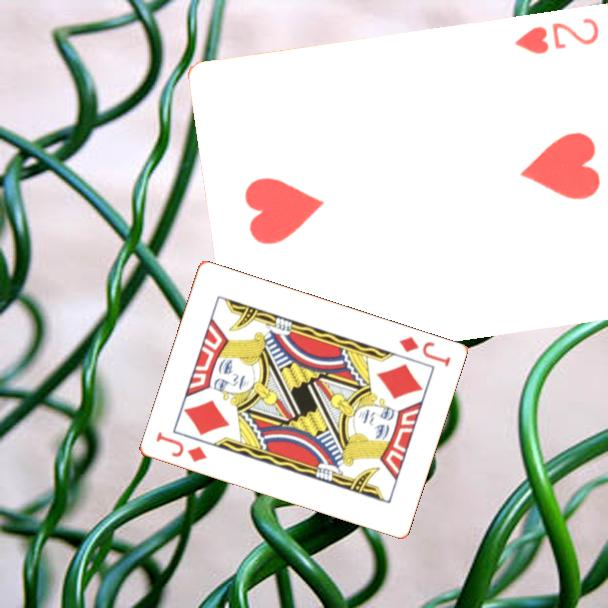d11: (395, 333, 453, 370), (152, 428, 209, 465)
h02: (510, 15, 602, 58)
